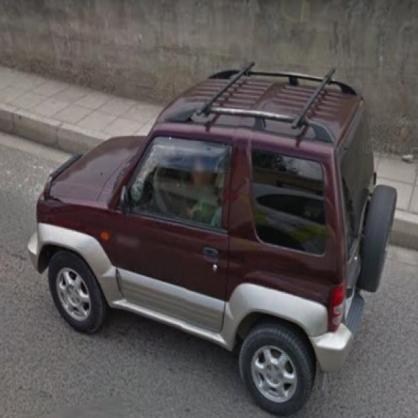car: (28, 66, 397, 418)
